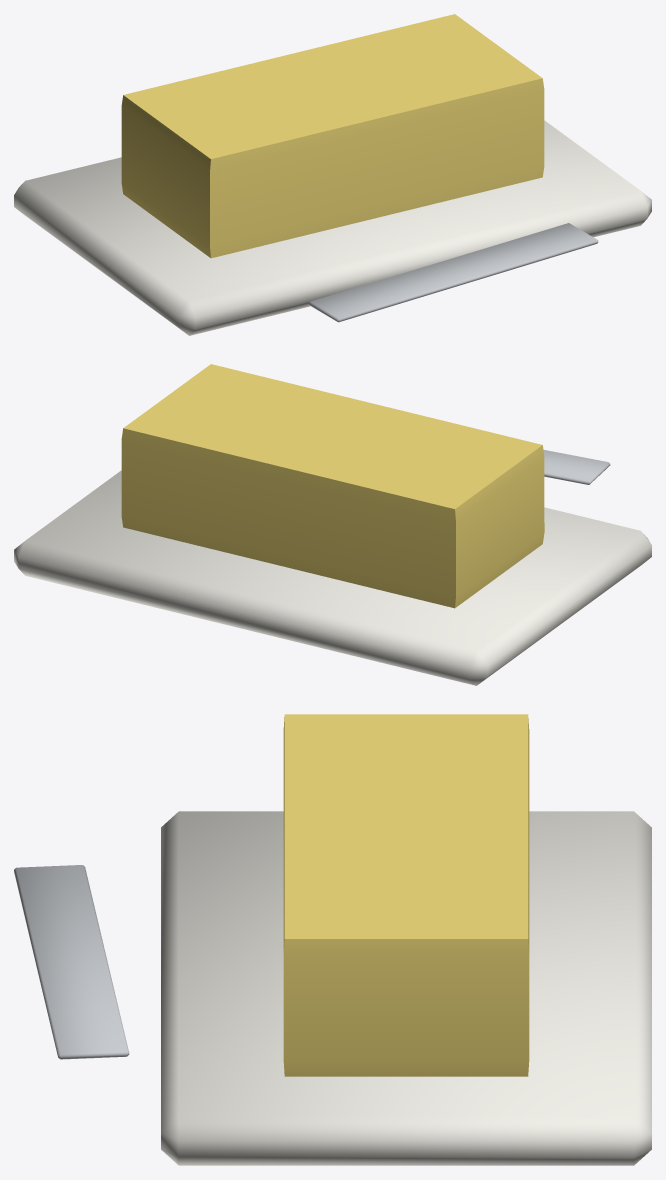
File: deli_butter_dish_and_knife.glb
The picture shows the model from 3 angles, top to bottom: view 1: azimuth 30°, elevation 25°; view 2: azimuth 150°, elevation 25°; view 3: azimuth 270°, elevation 25°; orthographic projection. The views are drawn at different scales.
Visible parts, largest first — view 1: deli_butter_dish_and_knife; view 2: deli_butter_dish_and_knife; view 3: deli_butter_dish_and_knife.
Boxes of the visible parts, left/top/right/bottom form: deli_butter_dish_and_knife: left=14, top=14, right=651, bottom=335; deli_butter_dish_and_knife: left=14, top=364, right=651, bottom=685; deli_butter_dish_and_knife: left=14, top=714, right=651, bottom=1165.
Size of the model in its own units: 0.17 by 0.046 by 0.1429.
